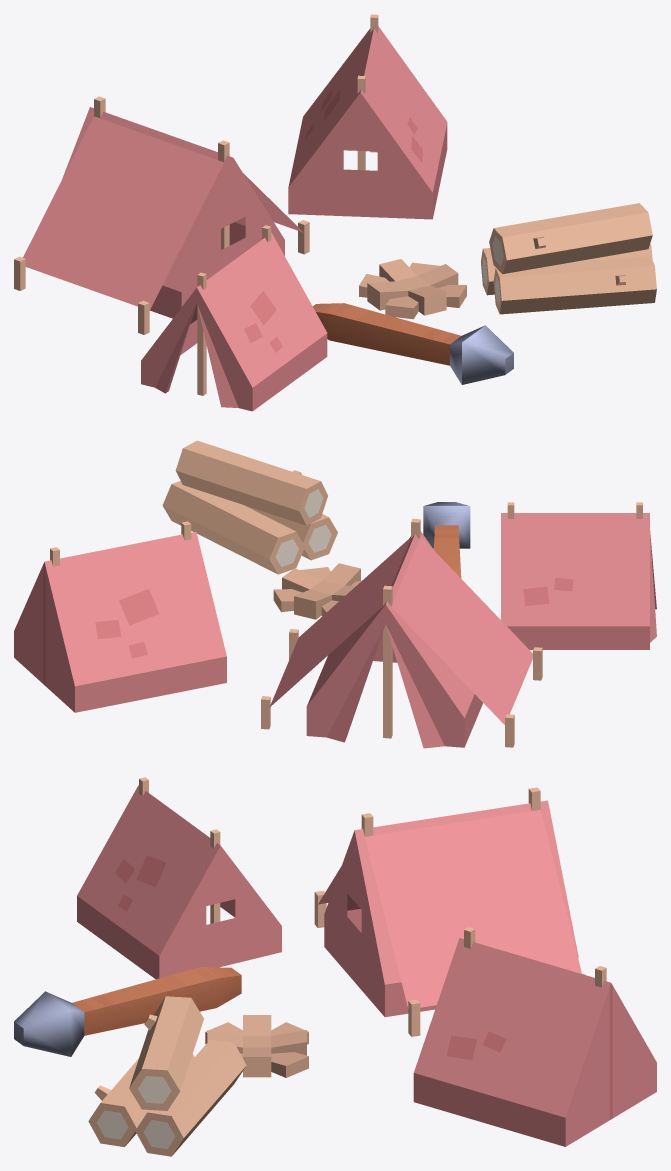
File: realm_camp.glb
The picture shows the model from 3 angles, top to bottom: view 1: azimuth 30°, elevation 25°; view 2: azimuth 150°, elevation 25°; view 3: azimuth 270°, elevation 25°; orthographic projection. The views are drawn at different scales.
Parts seen in each view (by area): view 1: realm_camp; view 2: realm_camp; view 3: realm_camp.
Boxes of the visible parts, <box> form: realm_camp: <box>14,14,656,411</box>; realm_camp: <box>14,440,656,748</box>; realm_camp: <box>14,777,656,1156</box>.
Size of the model in its own units: 0.9758 by 0.2956 by 0.9938.
14 materials, 1 textured.
